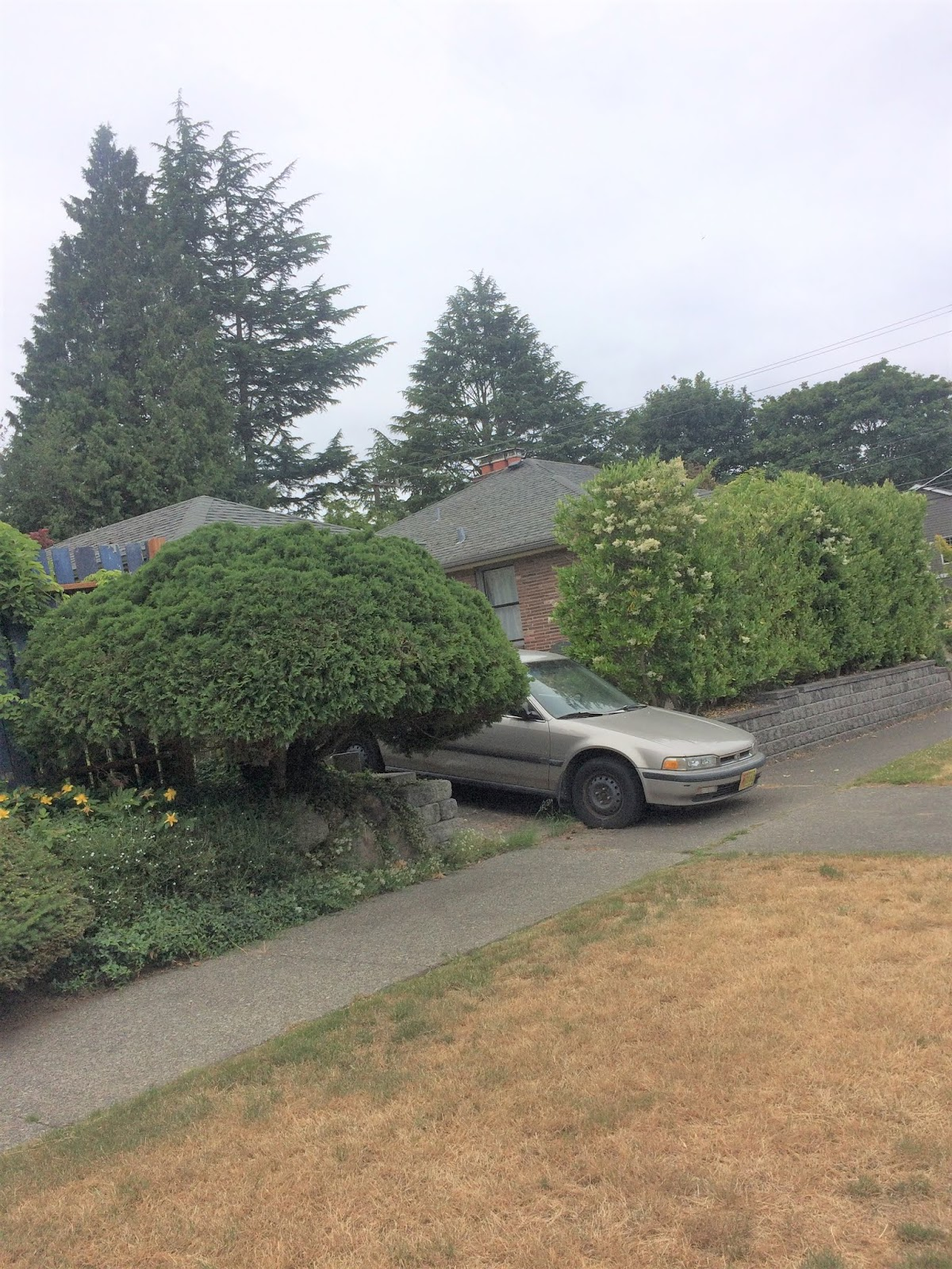Car: (384, 608, 781, 834)
